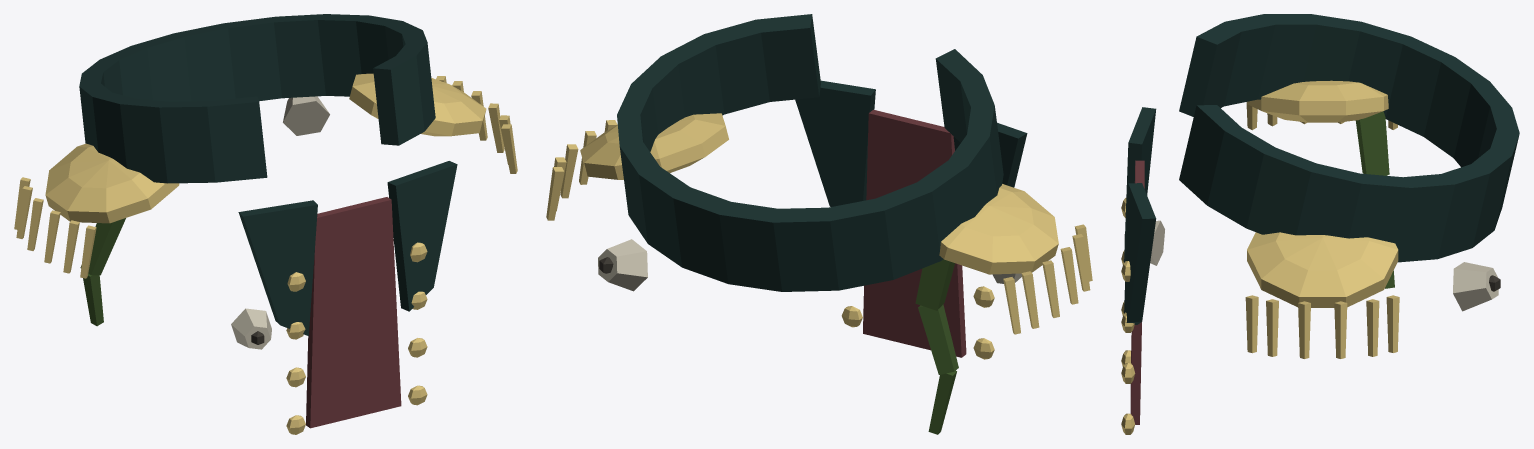
File: smuggler_captain_coat.glb
3 renders of one model, left to right at view 1: azimuth 30°, elevation 25°; view 2: azimuth 150°, elevation 25°; view 3: azimuth 270°, elevation 25°, orthographic. The views are drawn at different scales.
Parts seen in each view (by area): view 1: smuggler_captain_coat; view 2: smuggler_captain_coat; view 3: smuggler_captain_coat.
Part boxes in pixels (x1=…): smuggler_captain_coat: x1=14, y1=14, x2=517, y2=434; smuggler_captain_coat: x1=546, y1=14, x2=1092, y2=434; smuggler_captain_coat: x1=1121, y1=14, x2=1519, y2=434.
Size of the model in its own units: 1.21 by 0.7828 by 0.8506.
